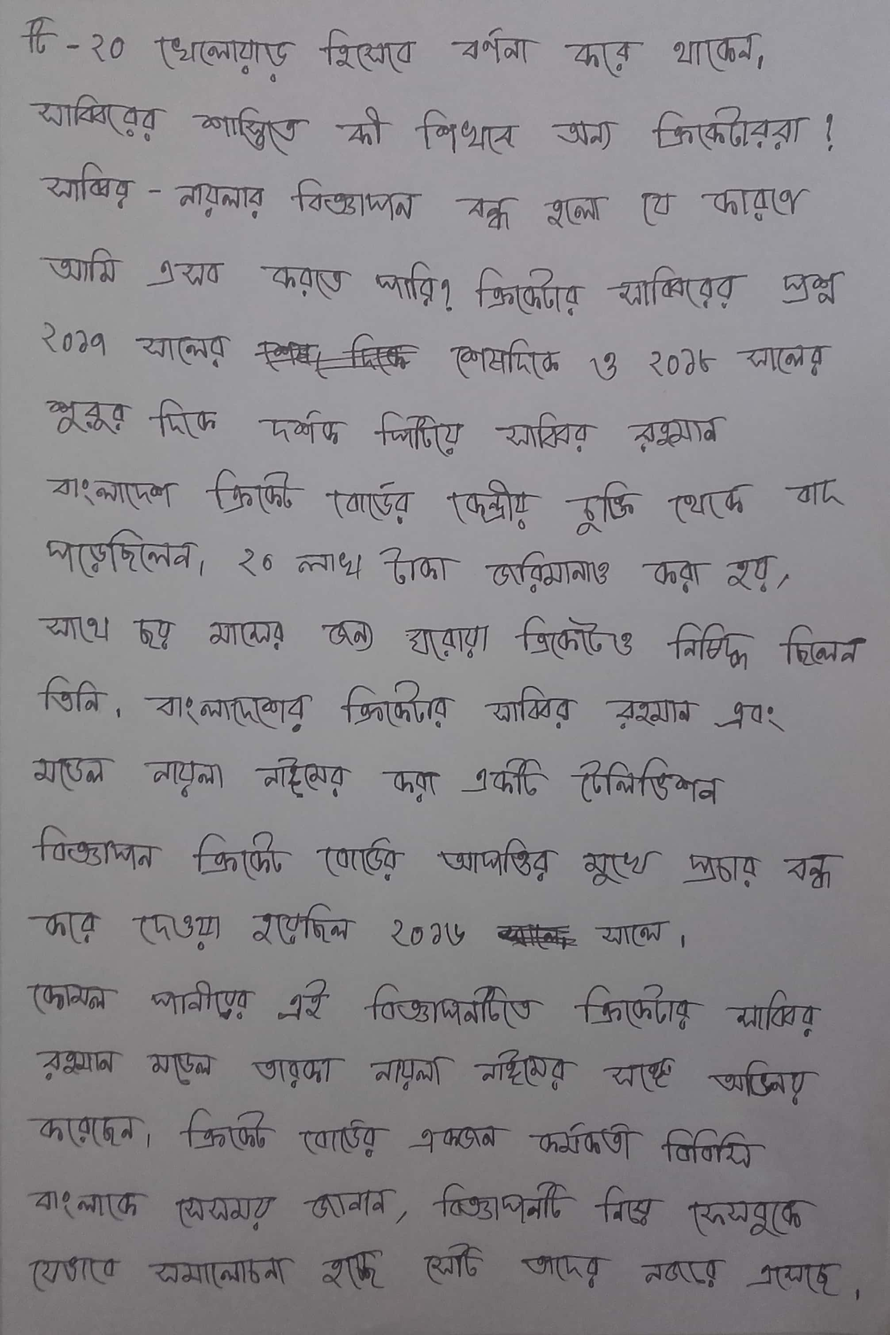line: (31, 821, 847, 896), (38, 158, 813, 234), (25, 1240, 864, 1308), (37, 316, 829, 388), (34, 247, 856, 316), (37, 468, 846, 536), (42, 526, 796, 598), (31, 91, 837, 158), (24, 975, 823, 1042), (31, 1043, 825, 1109), (19, 15, 766, 85), (40, 612, 870, 674), (27, 1181, 820, 1245), (35, 675, 792, 741), (28, 1106, 769, 1169), (38, 394, 729, 461), (28, 748, 726, 812), (28, 902, 691, 952)
